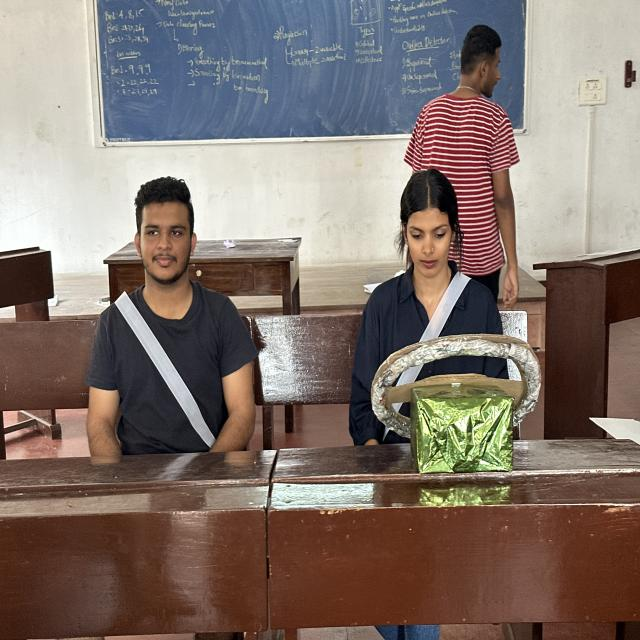seatbelt: (353, 267, 510, 445), (108, 277, 251, 463)
